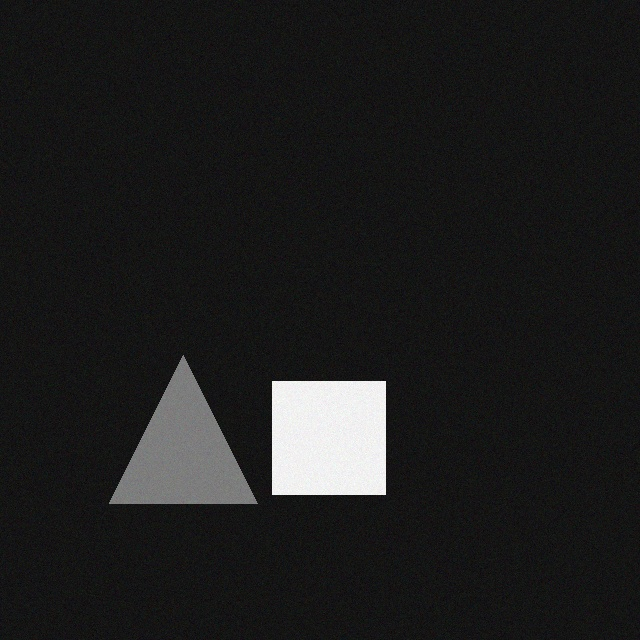square: (269, 389, 382, 502)
triangle: (106, 363, 254, 511)
